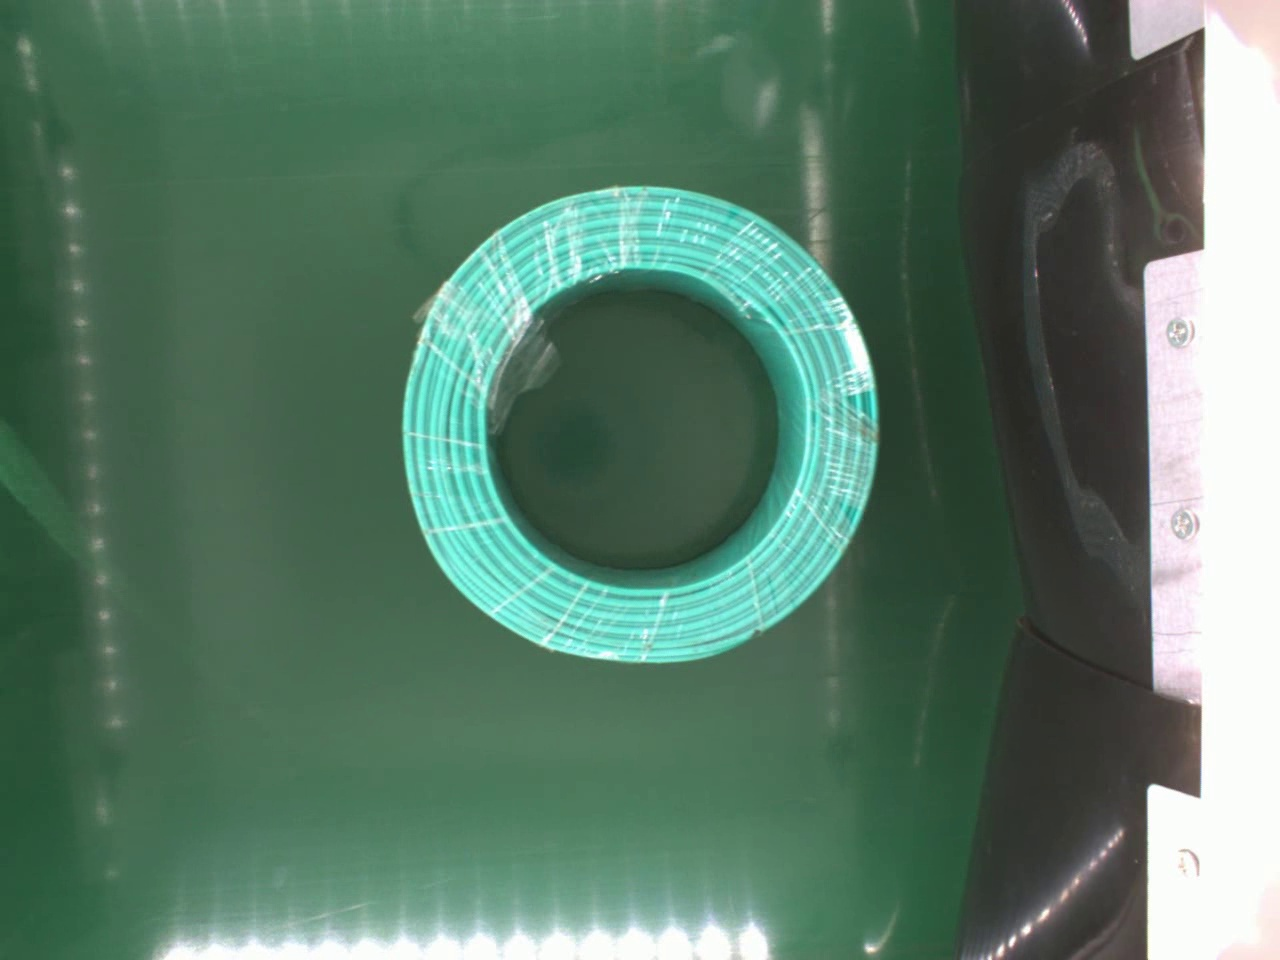green: (398, 182, 890, 676)
